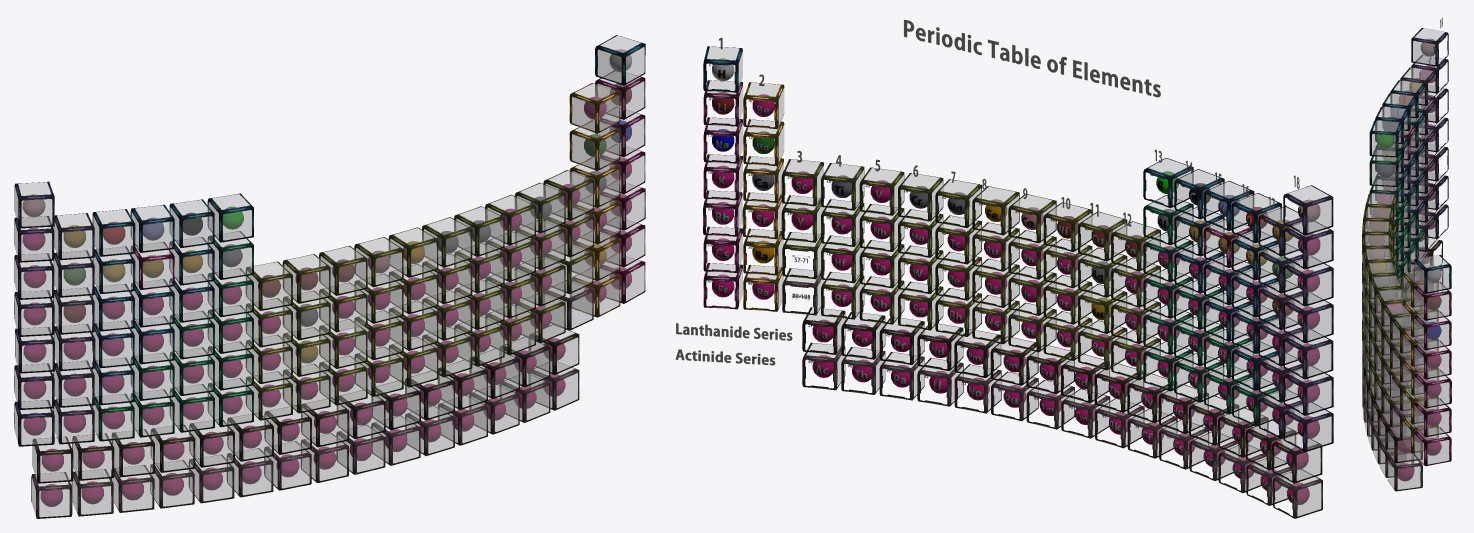
File: Periodic Table.gltf
3 views of the same model, side by side, from view 1: azimuth 30°, elevation 25°; view 2: azimuth 150°, elevation 25°; view 3: azimuth 270°, elevation 25° (orthographic). The views are drawn at different scales.
Parts seen in each view (by area): view 1: Box; view 2: Box, Periodic, Series, polySurface2; view 3: Box.
Part boxes in pixels (x1=…): Box: x1=14, y1=35, x2=645, y2=518; Box: x1=703, y1=46, x2=1333, y2=518; Periodic: x1=904, y1=20, x2=1160, y2=97; Series: x1=675, y1=323, x2=792, y2=365; polySurface2: x1=707, y1=63, x2=1293, y2=486; Box: x1=1362, y1=28, x2=1451, y2=491.
Size of the model in its own units: 21.13 by 12.23 by 3.53.
Materials: 19 (18 with a texture image).
